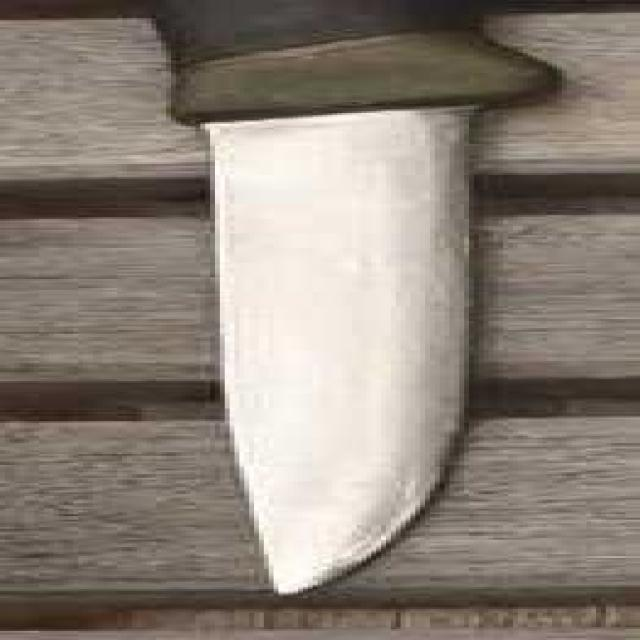Knife: (118, 0, 586, 600)
